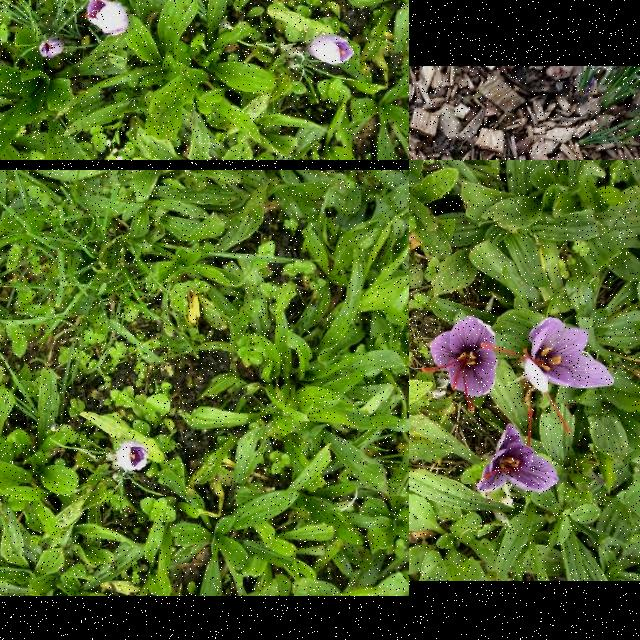flower: (480, 318, 616, 434), (475, 408, 561, 492), (422, 316, 498, 409), (85, 0, 128, 36), (311, 33, 354, 65), (115, 440, 148, 472), (40, 40, 64, 59)
